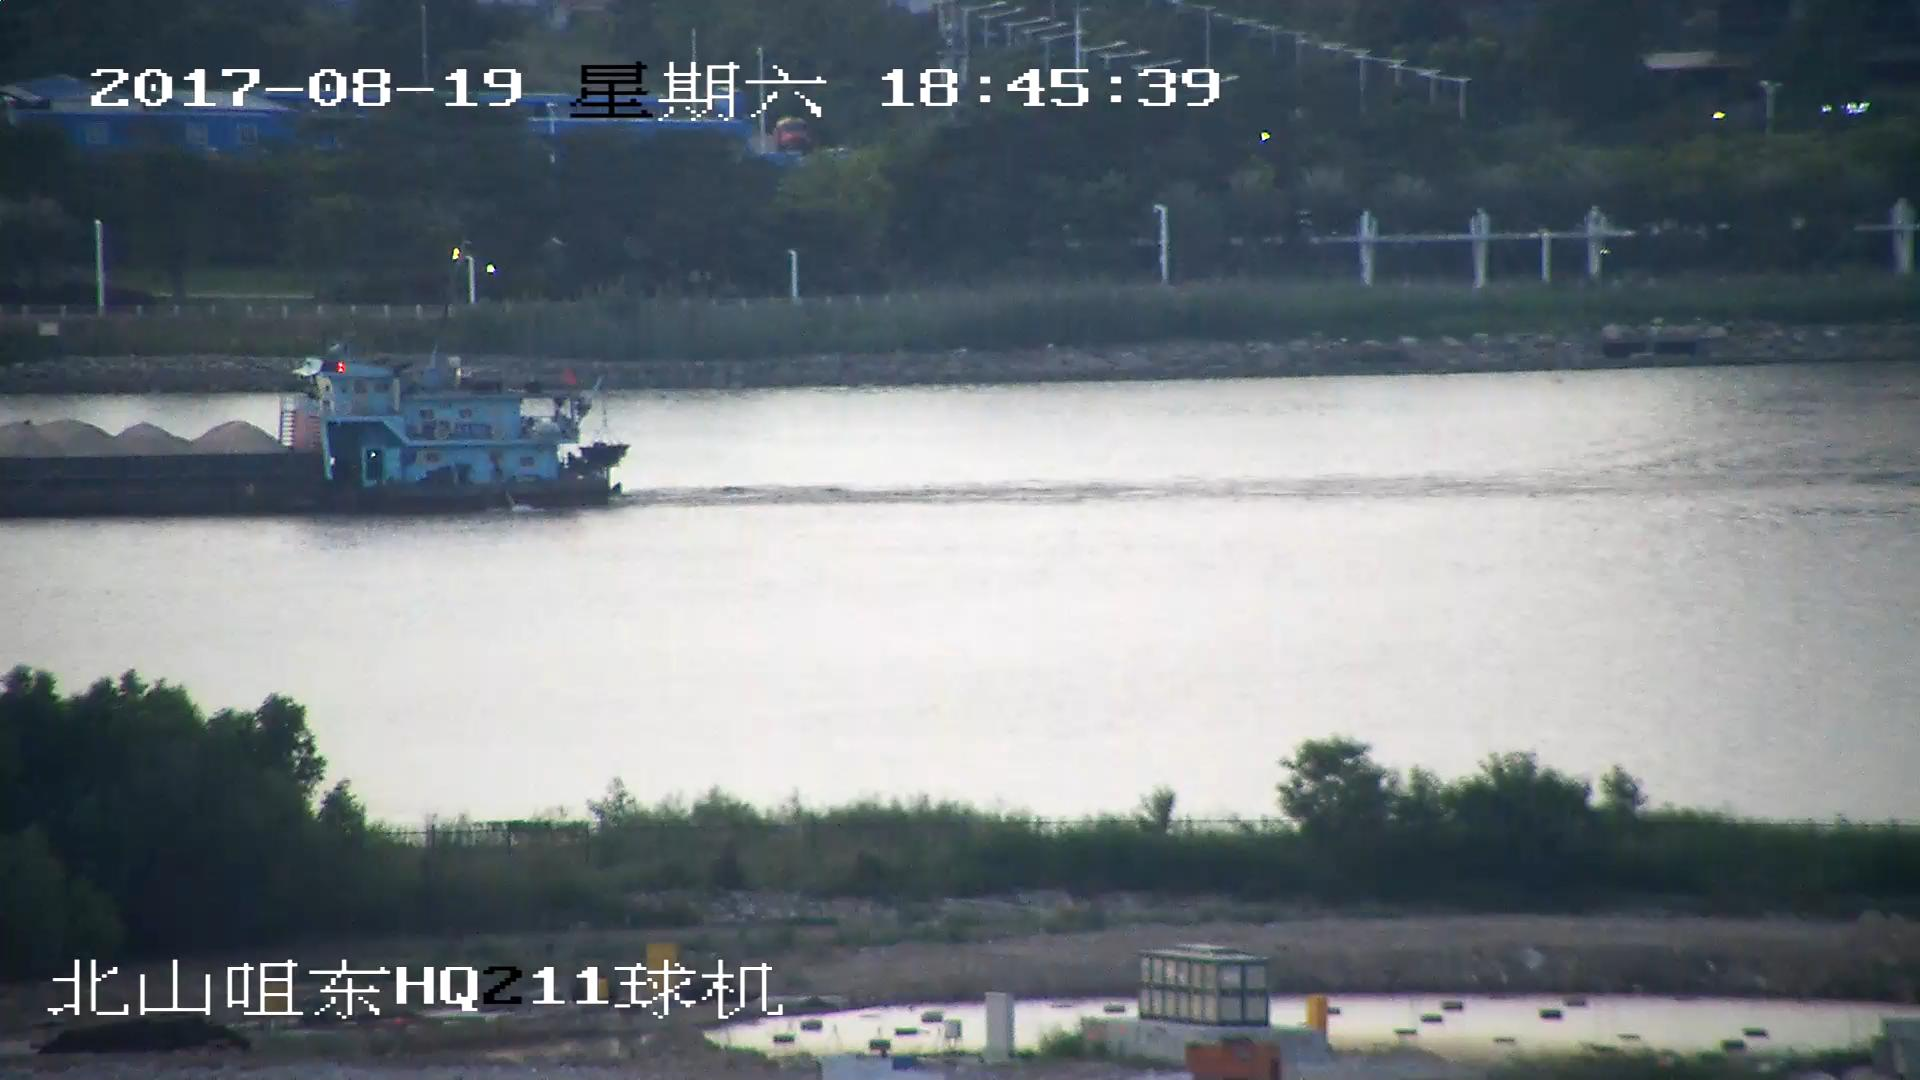ore carrier: (1, 332, 626, 514)
